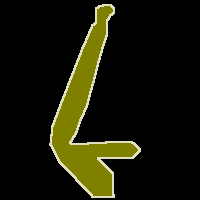tie: (50, 4, 140, 197)
